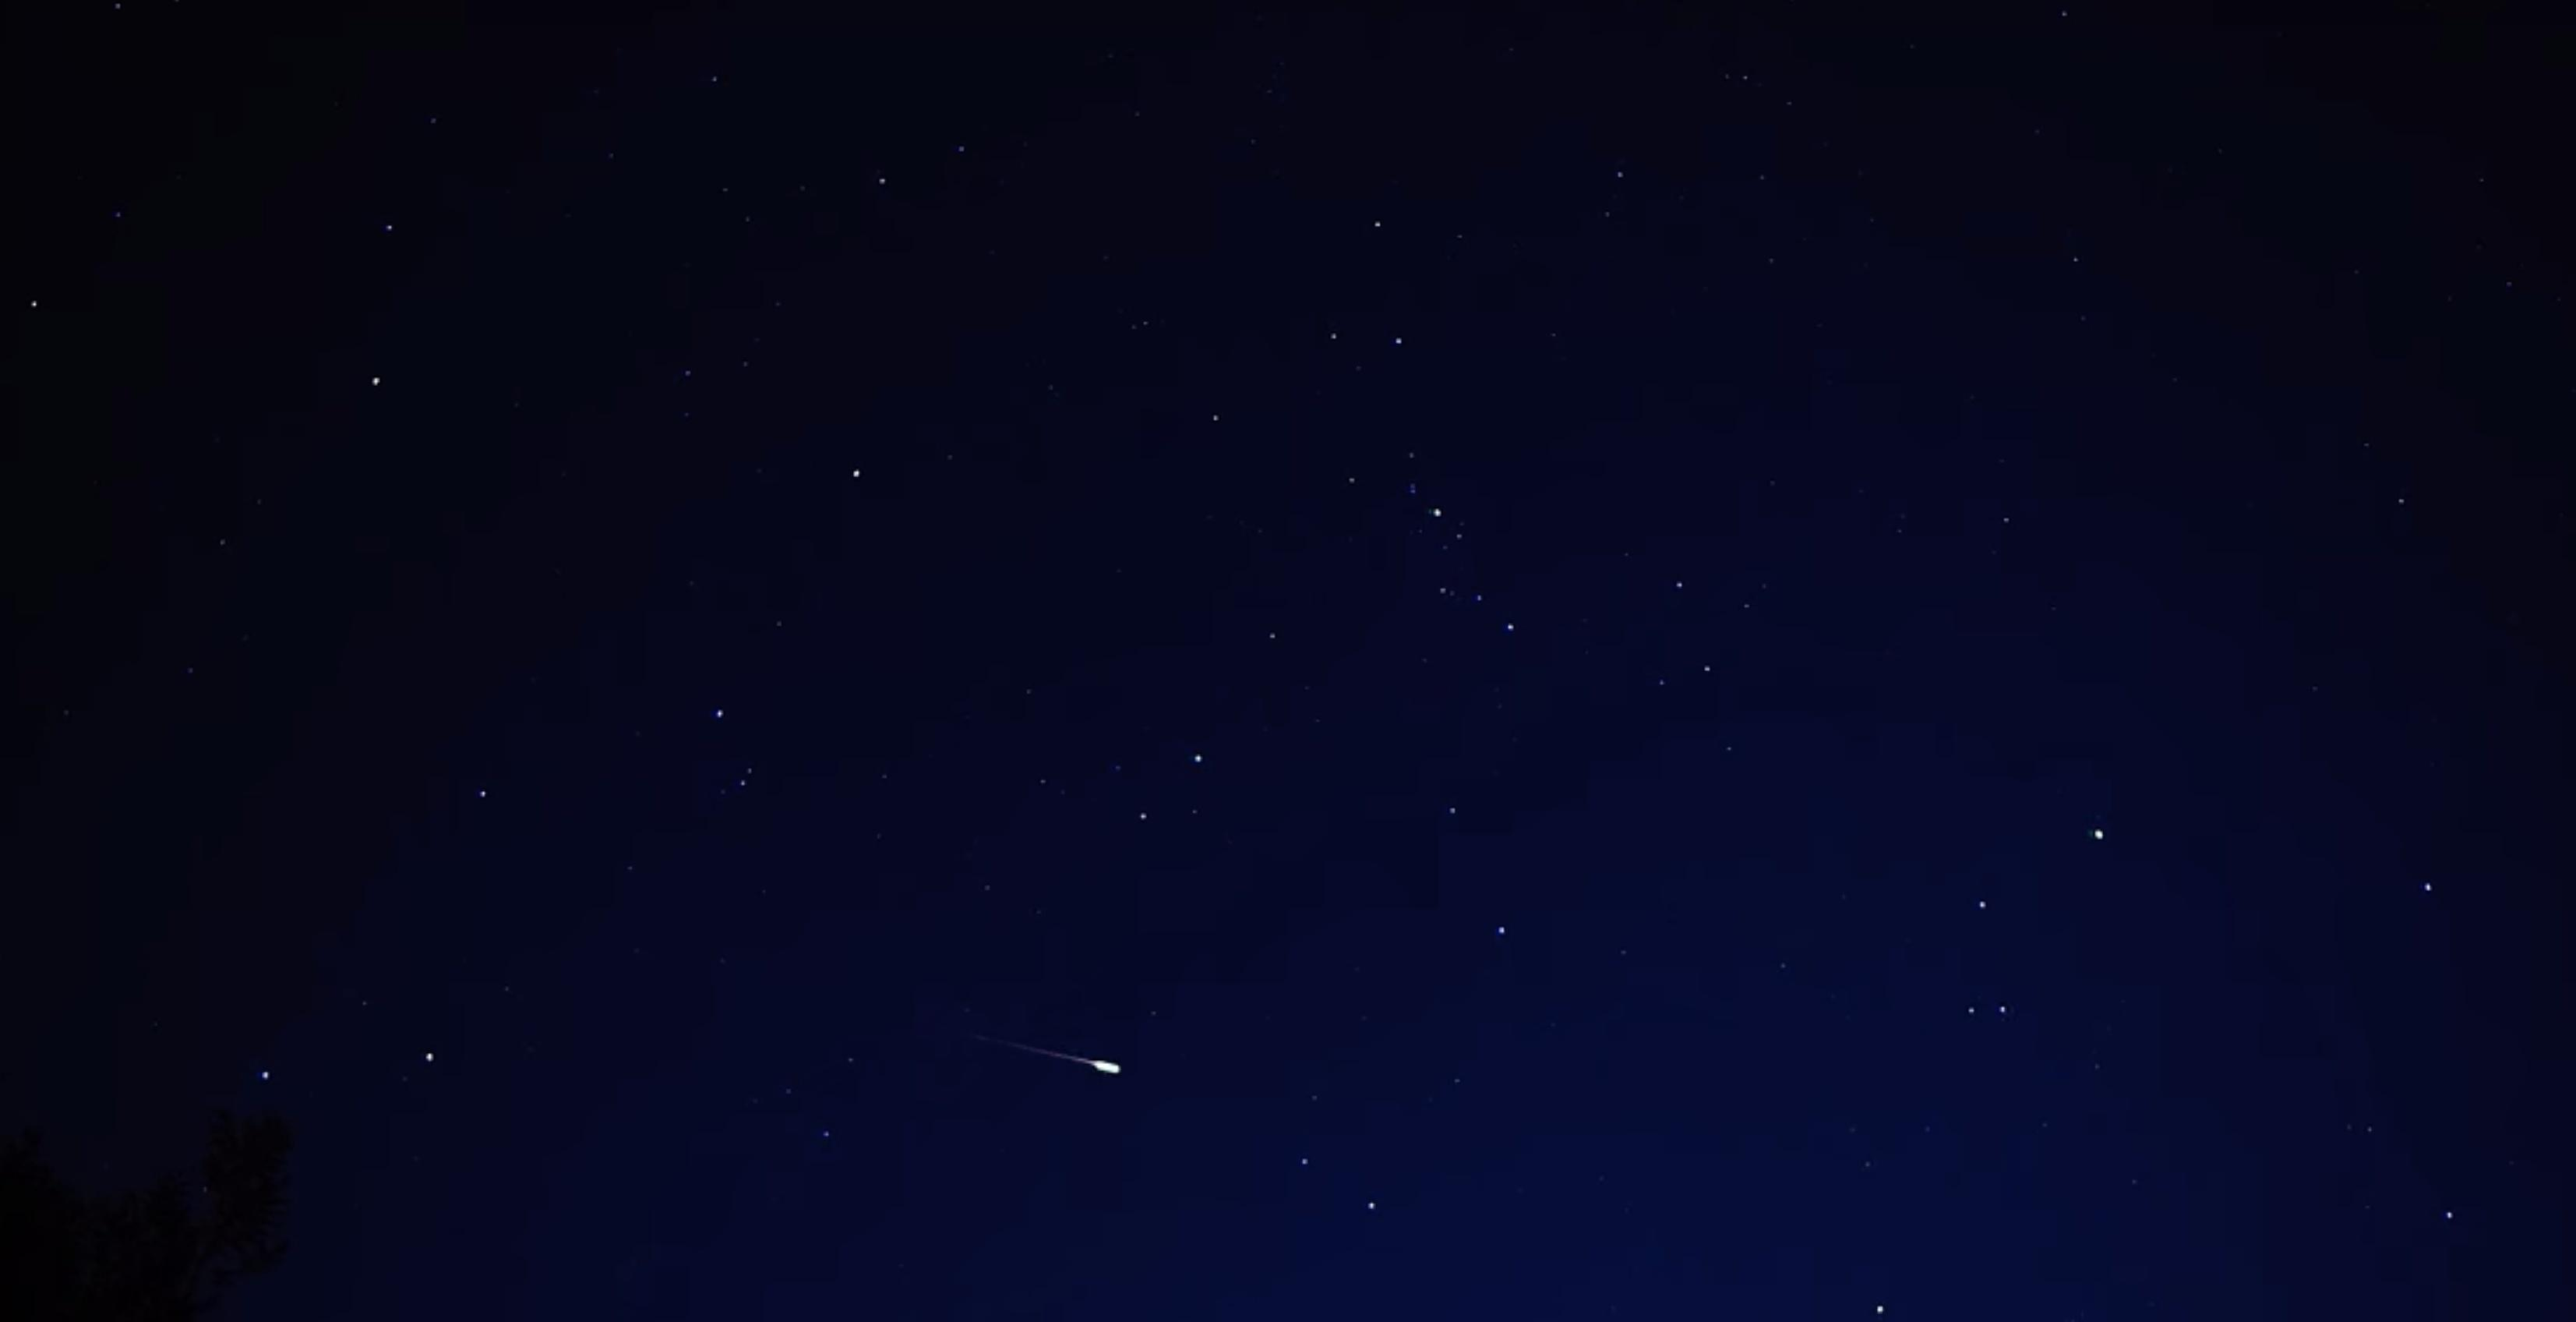meteorite: (883, 1012, 1188, 1093)
